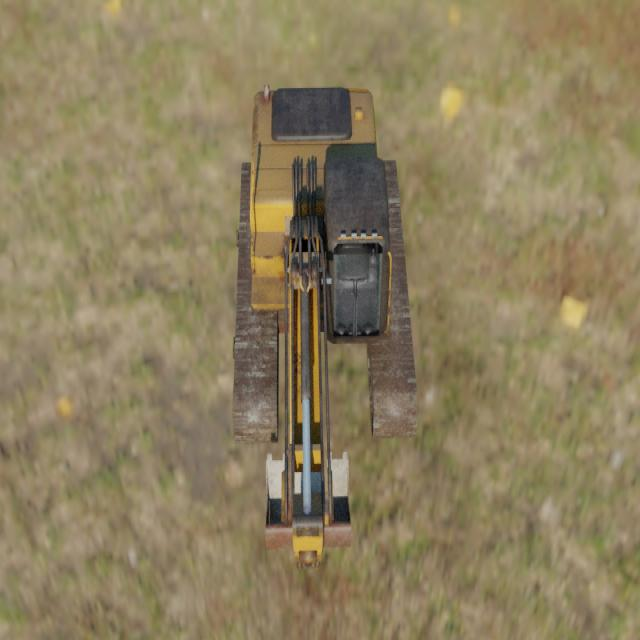excavator: (231, 83, 417, 569)
